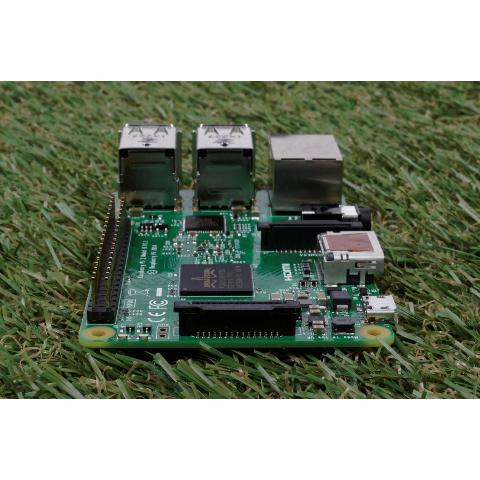Raspberry-Pi-2-Model-B: (74, 114, 404, 360)
